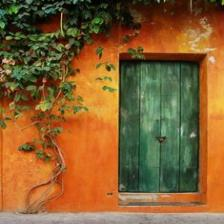green: (120, 62, 199, 193)
orange: (1, 121, 55, 212)
